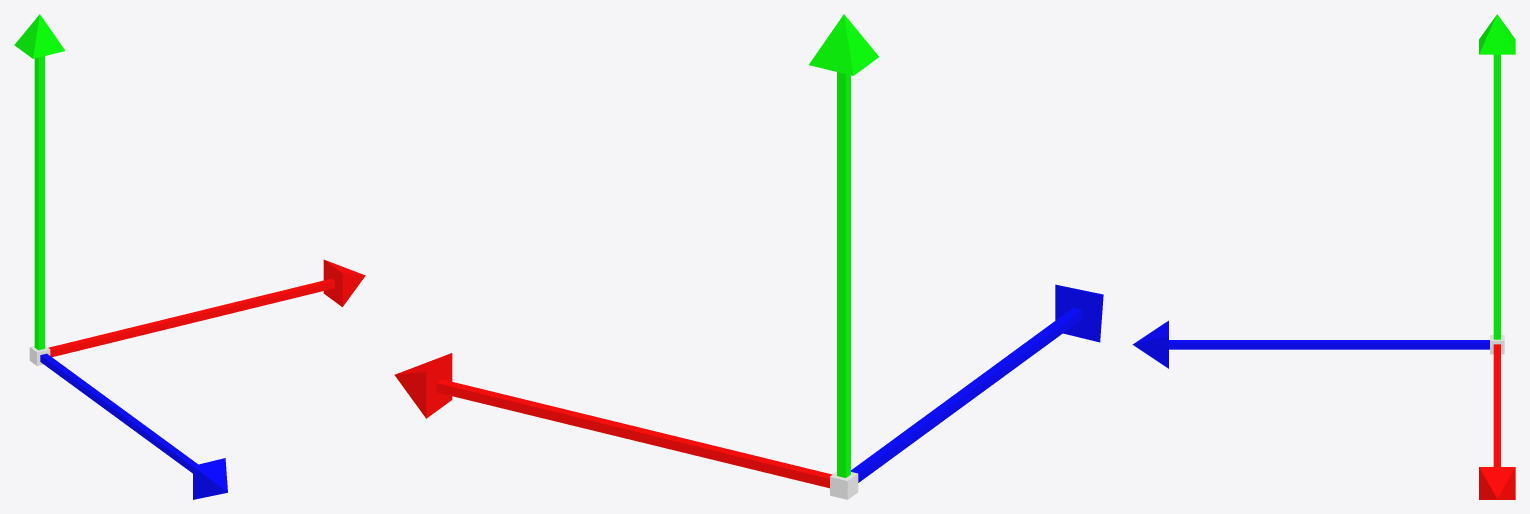
The model's file is translate.glb.
3 views of the same model, side by side, from view 1: azimuth 30°, elevation 25°; view 2: azimuth 150°, elevation 25°; view 3: azimuth 270°, elevation 25° (orthographic). The views are drawn at different scales.
Parts seen in each view (by area): view 1: Cube.001, Cube, Cube.002; view 2: Cube, Cube.001, Cube.002; view 3: Cube.002, Cube.001, Cube.
Part boxes in pixels (bbox=[...]): Cube.001: bbox=[14, 14, 65, 350]; Cube: bbox=[48, 259, 365, 357]; Cube.002: bbox=[40, 353, 227, 499]; Cube: bbox=[394, 353, 832, 488]; Cube.001: bbox=[809, 14, 878, 477]; Cube.002: bbox=[851, 284, 1103, 482]; Cube.002: bbox=[1132, 320, 1489, 368]; Cube.001: bbox=[1479, 14, 1515, 339]; Cube: bbox=[1479, 344, 1515, 499].
Bounding box in the file's own units: 1.05 × 1.05 × 1.05.
